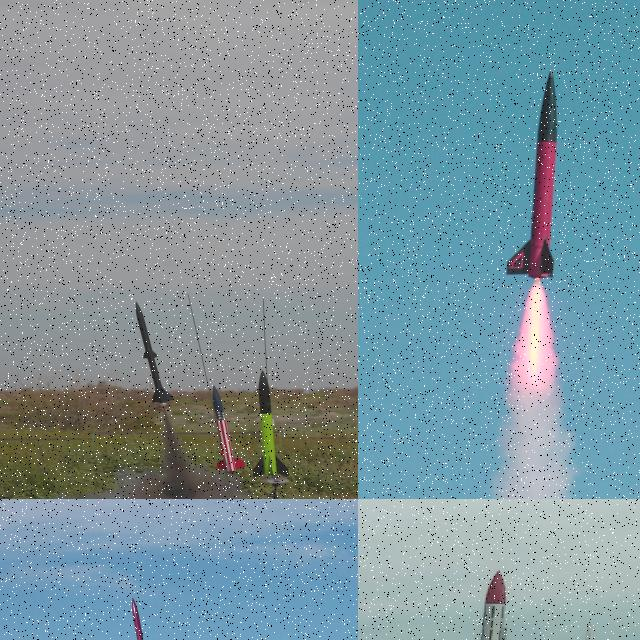Rocket: (505, 69, 558, 279), (134, 300, 176, 406), (447, 569, 508, 640), (252, 370, 290, 478), (211, 386, 247, 473), (130, 597, 152, 640)
